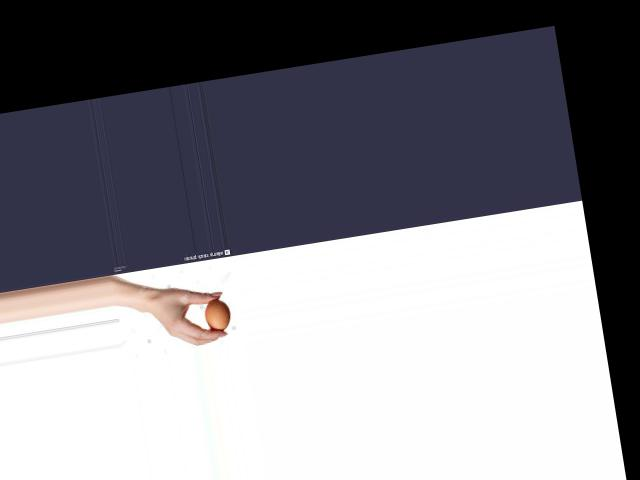egg: (201, 297, 232, 332)
